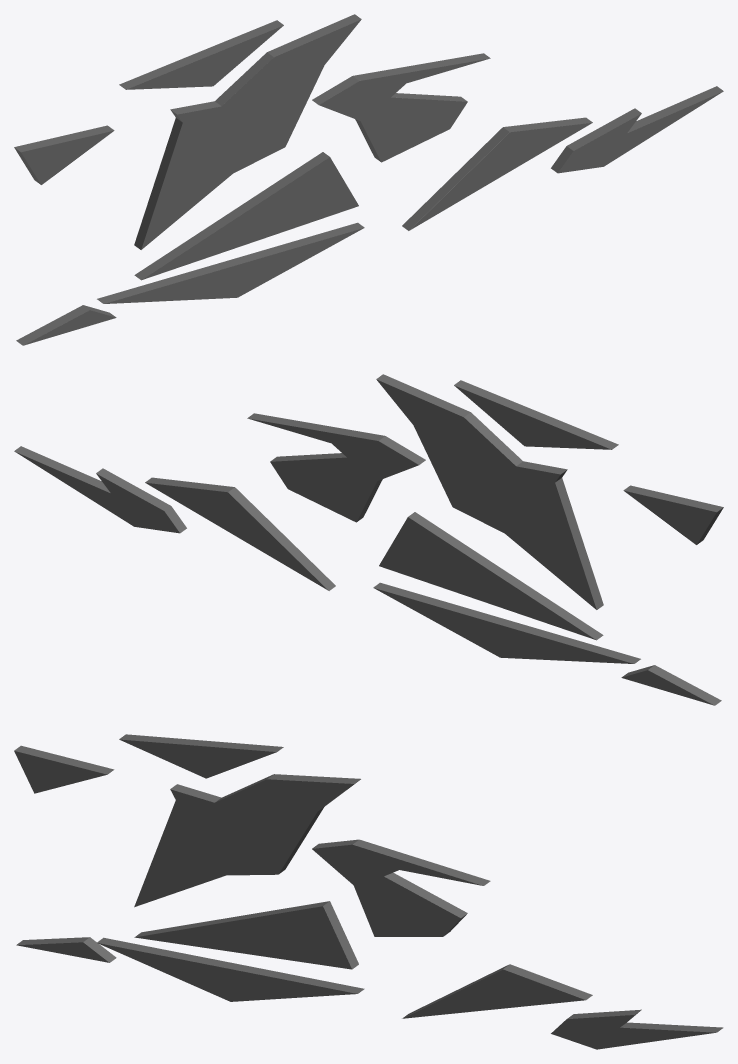
Rendered from Spike_Dark.fbx.
3 views of the same model, one above another, from view 1: azimuth 30°, elevation 25°; view 2: azimuth 150°, elevation 25°; view 3: azimuth 330°, elevation 25° (orthographic).
Parts seen in each view (by area): view 1: Spike03_Dark, Spike07_Dark, Spike06_Dark, Spike05_Dark, Spike08_Dark, Spike09_Dark, Spike02_Dark, Spike01_Dark, Spike04_Dark; view 2: Spike03_Dark, Spike07_Dark, Spike06_Dark, Spike05_Dark, Spike08_Dark, Spike09_Dark, Spike02_Dark, Spike01_Dark, Spike04_Dark; view 3: Spike03_Dark, Spike07_Dark, Spike06_Dark, Spike05_Dark, Spike08_Dark, Spike09_Dark, Spike02_Dark, Spike01_Dark, Spike04_Dark.
Part boxes in pixels (bbox=[...]): Spike03_Dark: bbox=[134, 14, 361, 249]; Spike07_Dark: bbox=[312, 53, 490, 162]; Spike06_Dark: bbox=[134, 152, 358, 280]; Spike05_Dark: bbox=[97, 222, 364, 303]; Spike08_Dark: bbox=[402, 117, 592, 230]; Spike09_Dark: bbox=[551, 86, 723, 173]; Spike02_Dark: bbox=[119, 20, 283, 89]; Spike01_Dark: bbox=[14, 125, 114, 184]; Spike04_Dark: bbox=[16, 305, 116, 345]; Spike03_Dark: bbox=[376, 374, 603, 609]; Spike07_Dark: bbox=[247, 413, 425, 522]; Spike06_Dark: bbox=[379, 512, 603, 640]; Spike05_Dark: bbox=[373, 582, 640, 663]; Spike08_Dark: bbox=[145, 477, 335, 590]; Spike09_Dark: bbox=[14, 446, 186, 533]; Spike02_Dark: bbox=[454, 380, 618, 449]; Spike01_Dark: bbox=[623, 485, 723, 544]; Spike04_Dark: bbox=[621, 665, 721, 705]; Spike03_Dark: bbox=[134, 774, 360, 907]; Spike07_Dark: bbox=[312, 839, 490, 936]; Spike06_Dark: bbox=[134, 901, 358, 969]; Spike05_Dark: bbox=[97, 937, 364, 1001]; Spike08_Dark: bbox=[402, 964, 592, 1018]; Spike09_Dark: bbox=[551, 1009, 723, 1049]; Spike02_Dark: bbox=[119, 734, 283, 778]; Spike01_Dark: bbox=[14, 745, 114, 793]; Spike04_Dark: bbox=[16, 937, 116, 962].
Size of the model in its own units: 115 by 40.97 by 2.
